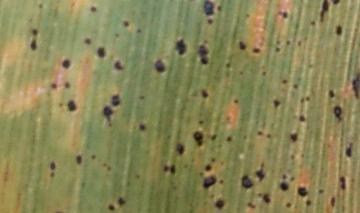tarspot: (101, 105, 116, 127), (173, 37, 187, 57), (196, 44, 210, 64), (318, 1, 330, 24), (351, 71, 360, 98), (240, 173, 253, 190), (192, 129, 204, 147), (332, 105, 344, 123), (153, 58, 167, 73), (255, 161, 265, 182), (201, 176, 216, 189), (202, 1, 214, 16), (344, 141, 354, 158), (236, 39, 248, 53), (66, 99, 78, 112), (60, 58, 73, 70), (110, 94, 122, 106), (338, 174, 346, 192), (296, 186, 308, 197), (278, 182, 291, 192), (95, 45, 105, 58), (113, 60, 124, 71), (271, 98, 281, 110), (29, 38, 38, 51), (262, 192, 271, 205), (245, 201, 258, 210), (175, 143, 185, 154), (289, 132, 299, 143), (117, 196, 127, 206), (208, 132, 218, 142), (215, 199, 224, 210), (28, 28, 39, 37), (75, 154, 84, 165), (168, 164, 177, 175), (330, 195, 337, 209), (200, 88, 208, 100), (334, 25, 343, 35), (121, 19, 131, 28), (48, 159, 57, 169), (252, 46, 261, 56), (137, 122, 146, 131), (204, 163, 213, 172), (83, 37, 93, 45), (304, 197, 312, 207), (328, 88, 335, 99), (215, 3, 223, 12), (205, 17, 214, 25), (89, 5, 98, 13), (49, 82, 58, 90), (107, 203, 115, 212), (225, 134, 233, 143), (281, 77, 289, 86), (281, 10, 288, 20), (285, 201, 293, 209), (317, 187, 325, 195), (232, 98, 240, 106), (291, 82, 299, 90), (49, 170, 56, 179), (264, 132, 273, 139), (255, 129, 264, 136), (218, 178, 225, 187), (105, 163, 112, 172), (136, 94, 145, 101), (162, 163, 168, 173), (196, 119, 206, 125), (298, 114, 305, 122), (63, 81, 70, 89), (309, 19, 317, 26), (296, 39, 303, 47), (274, 46, 281, 54), (274, 38, 282, 45), (244, 12, 251, 20), (288, 154, 296, 161), (288, 175, 296, 182), (135, 172, 142, 180), (112, 32, 120, 39), (304, 94, 310, 103), (280, 172, 286, 181), (284, 39, 291, 46), (224, 61, 231, 68), (241, 134, 248, 141), (299, 96, 305, 104), (210, 156, 216, 164), (79, 181, 85, 189), (330, 1, 341, 5), (37, 2, 43, 9), (261, 70, 268, 76), (198, 171, 205, 177), (238, 70, 244, 77), (202, 38, 209, 44), (90, 154, 96, 160), (51, 210, 63, 213), (135, 27, 140, 34)
